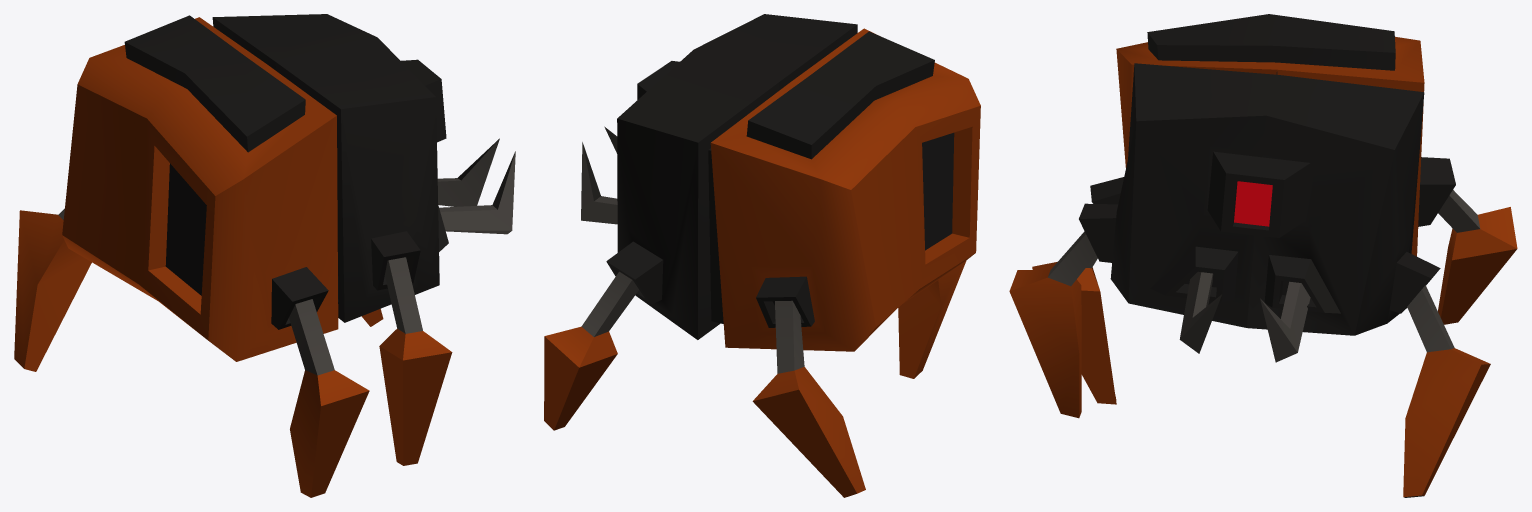
The model's file is SPIDBOT12.obj.
3 renders of one model, left to right at view 1: azimuth 30°, elevation 25°; view 2: azimuth 150°, elevation 25°; view 3: azimuth 270°, elevation 25°, orthographic. The views are drawn at different scales.
Parts seen in each view (by area): view 1: Cube.001; view 2: Cube.001; view 3: Cube.001.
Part boxes in pixels (x1,y1,x2,y2): Cube.001: [14, 14, 515, 497]; Cube.001: [544, 14, 980, 497]; Cube.001: [1009, 14, 1517, 497].
Size of what is drawn, in the model's own units: 3.07 by 2.82 by 3.55.
